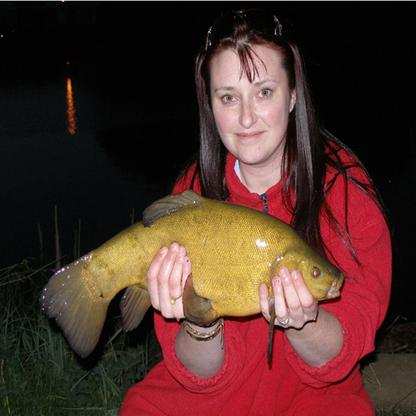fish: (40, 190, 345, 361)
human_face: (197, 11, 308, 169)
